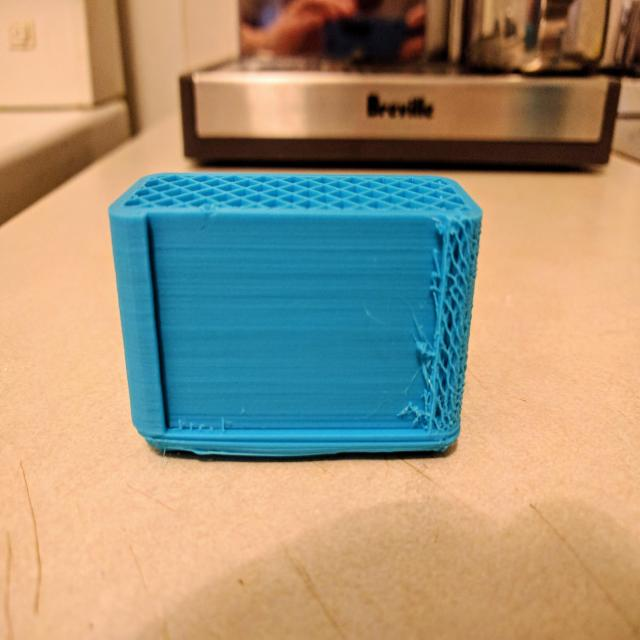blobs: (401, 218, 448, 434), (170, 407, 248, 442)
